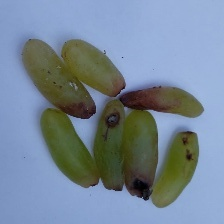grapes: (56, 20, 201, 189)
